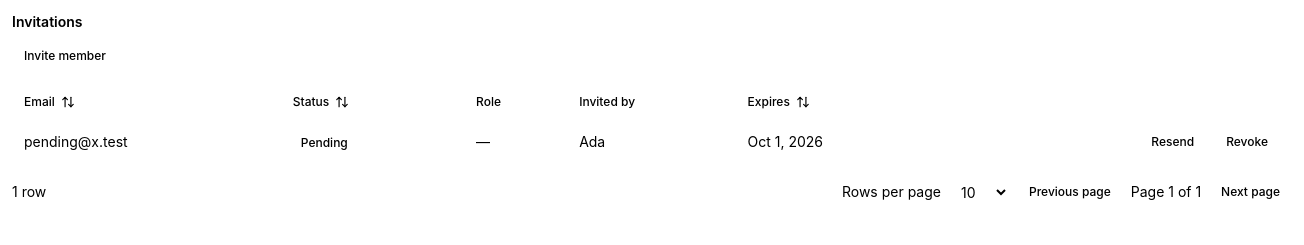
Test case: OrganizationInvitationsPanel budgets (F-64) › says so when a resend is refused by the cooldown or the org's mail budget
Click the button "Resend": click(1173, 142) [1139,126,1206,158]
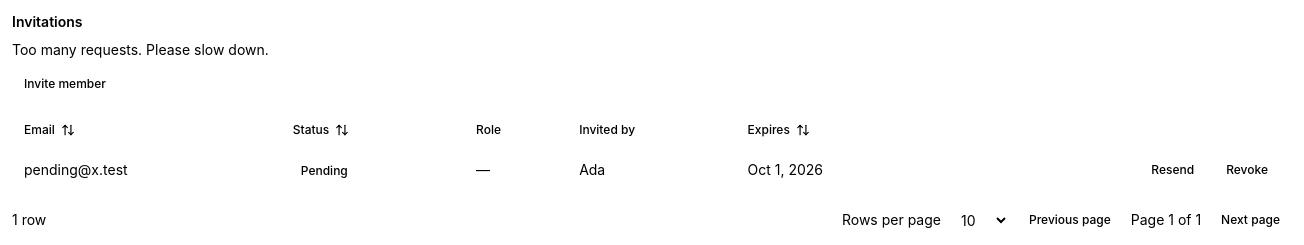
Now the message reads "Too many requests. Please slow down.", box [12,41,269,58]
